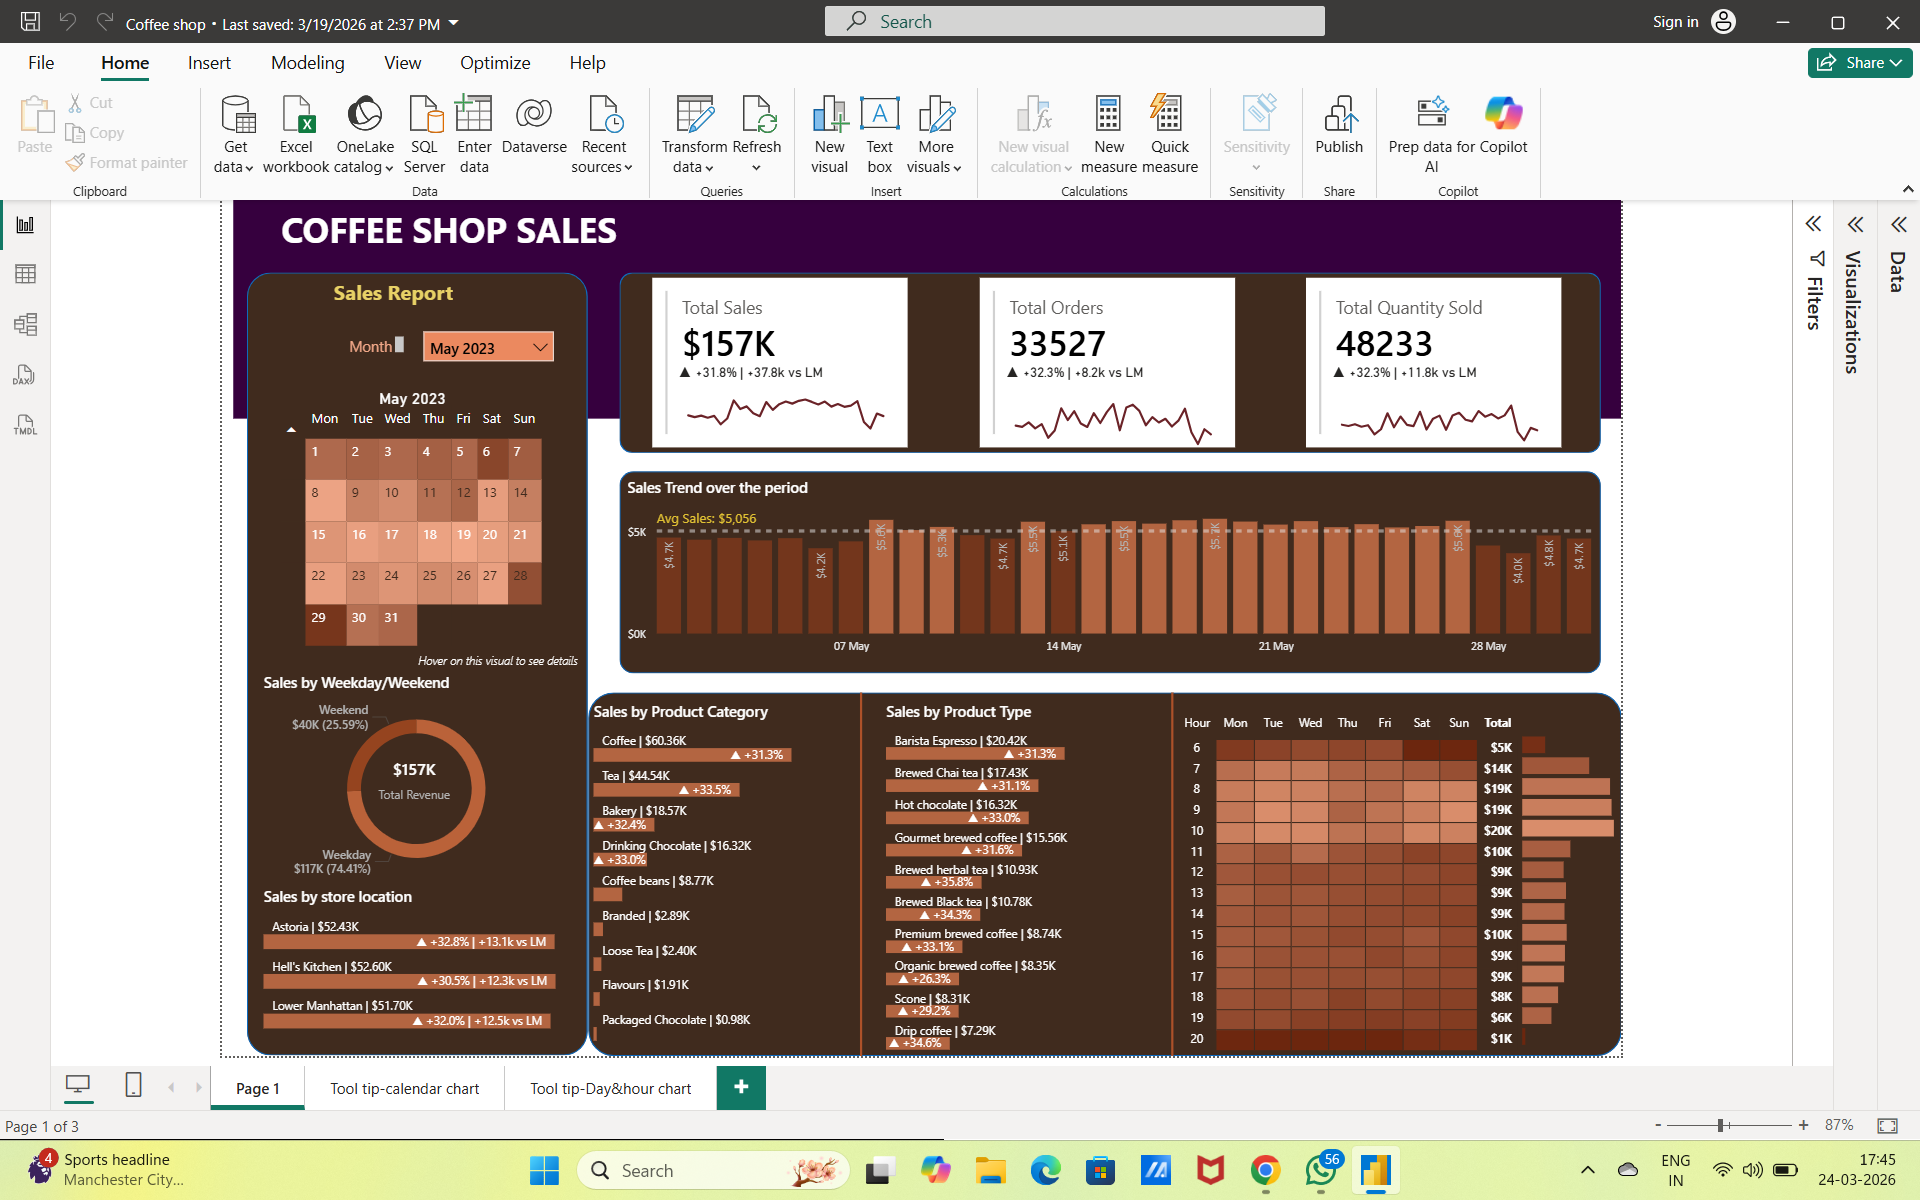

This screenshot's page, from the dashboard's own definition file:
{"tool":"powerbi","page":{"name":"Page 1","canvas":[1280,783],"ordinal":0},"visuals":[{"type":"shape","box":[10,0,1270,200],"z":0},{"type":"shape","box":[23.3,66.3,311.6,716.3],"z":1000},{"type":"shape","box":[364,66.3,897.7,165.1],"z":2000},{"type":"textbox","box":[48.8,0,331.4,57],"z":3000},{"type":"slicer","fields":{"Values":["Date Table.Month year"]},"box":[179.1,115.1,129.1,33.7],"z":4000},{"type":"group","id":"g1","title":"Group 1","box":[388.4,66.3,244.2,165.1],"z":5000},{"type":"cardVisual","fields":{"Data":["Transactions.Total Sales"]},"box":[388.4,66.3,243.5,165.3],"z":5000,"group":"g1"},{"type":"cardVisual","fields":{"Data":["Transactions.Total Orders"]},"box":[687.8,66.3,243.5,165.3],"z":5000,"group":"g2"},{"type":"cardVisual","fields":{"Data":["Transactions.Total Quantity Sold"]},"box":[987.2,66.3,243.5,165.3],"z":5000,"group":"g3"},{"type":"group","id":"g2","title":"Group 1","box":[687.8,66.3,244.2,165.1],"z":6000},{"type":"group","id":"g3","title":"Group 1","box":[987.2,66.3,244.2,165.1],"z":7000},{"type":"pivotTable","fields":{"Rows":["Date Table.Week Number"],"Columns":["Date Table.Day Name"],"Values":["Min(Date Table.Day number)"]},"box":[48.8,182.6,259.3,230.2],"z":8000},{"type":"card","fields":{"Values":["Min(Date Table.Month year)"]},"box":[97.7,166.3,154.7,33.7],"z":9000},{"type":"lineChart","fields":{"Y":["Transactions.Total Sales"],"Category":["Date Table.Date.Variation.Date Hierarchy.Year","Date Table.Date.Variation.Date Hierarchy.Quarter","Date Table.Date.Variation.Date Hierarchy.Month","Date Table.Date.Variation.Date Hierarchy.Day"]},"box":[411.1,149.3,208.6,80.4],"z":9001,"group":"g1"},{"type":"lineChart","fields":{"Category":["Date Table.Date.Variation.Date Hierarchy.Year","Date Table.Date.Variation.Date Hierarchy.Quarter","Date Table.Date.Variation.Date Hierarchy.Month","Date Table.Date.Variation.Date Hierarchy.Day"],"Y":["Transactions.Total Orders"]},"box":[710.5,149.3,208.6,80.4],"z":9001,"group":"g2"},{"type":"lineChart","fields":{"Category":["Date Table.Date.Variation.Date Hierarchy.Year","Date Table.Date.Variation.Date Hierarchy.Quarter","Date Table.Date.Variation.Date Hierarchy.Month","Date Table.Date.Variation.Date Hierarchy.Day"],"Y":["Transactions.Total Quantity Sold"]},"box":[1009.9,149.3,208.6,80.4],"z":9001,"group":"g3"},{"type":"card","fields":{"Values":["Transactions.Foot Note"]},"box":[116.3,407,272.1,33.7],"z":10000},{"type":"donutChart","title":"Sales by Weekday/Weekend","fields":{"Category":["Date Table.Weekday/Weekend"],"Y":["Transactions.Total Sales"]},"box":[33.7,432.6,289.5,195.3],"z":11000},{"type":"card","fields":{"Values":["Transactions.Total Sales"]},"box":[109.3,500,132.6,60.5],"z":12000},{"type":"clusteredBarChart","title":"Sales by store location","fields":{"Category":["Transactions.store_location"],"Y":["Transactions.Place Holder","Transactions.Total Sales"]},"box":[33.7,627.9,317.4,137.2],"z":13000},{"type":"shape","box":[364,247.7,897.7,185],"z":14000},{"type":"columnChart","title":"Sales Trend over the period","fields":{"Category":["Transactions.transaction_date"],"Y":["Transactions.Total Sales"]},"box":[366.3,253.5,897.7,170.9],"z":15000},{"type":"shape","box":[334.9,450,945.4,332.6],"z":16000},{"type":"clusteredBarChart","title":"Sales by Product Category","fields":{"Y":["Transactions.Place Holder","Transactions.Total Sales"],"Category":["Transactions.product_category"]},"box":[334.9,458.1,250,316.3],"z":17000},{"type":"shape","box":[567.4,450,34.9,332.6],"z":18000},{"type":"clusteredBarChart","title":"Sales by Product Type","fields":{"Y":["Transactions.Place Holder","Transactions.Total Sales"],"Category":["Transactions.product_type"]},"box":[602.3,458.1,250,324.4],"z":19000},{"type":"shape","box":[852.3,450,34.9,332.6],"z":19001},{"type":"pivotTable","fields":{"Rows":["Transactions.Hour"],"Columns":["Date Table.Day Name"],"Values":["Transactions.Total Sales"]},"box":[869.8,466.3,330.2,316.3],"z":19002},{"type":"barChart","fields":{"Category":["Transactions.Hour"],"Y":["Transactions.Total Sales"]},"box":[1184.9,477.9,95.3,300],"z":19003},{"type":"textbox","box":[97.7,66.3,130.2,48.8],"z":19004},{"type":"textbox","box":[109.1,120,62.7,24.5],"z":19005}]}

Visuals, with their boxes on the page's 1280x783 design canvas (x1, y1, x2, y2). These are canvas units, not pixel positions in the 1920x1200 screenshot, which may show the page scaled, cropped or inside an application window:
shape: <bbox>10, 0, 1280, 200</bbox>
shape: <bbox>23, 66, 335, 783</bbox>
shape: <bbox>364, 66, 1262, 231</bbox>
textbox: <bbox>49, 0, 380, 57</bbox>
slicer - Date Table.Month year: <bbox>179, 115, 308, 149</bbox>
"Group 1" group: <bbox>388, 66, 633, 231</bbox>
cardVisual - Transactions.Total Sales: <bbox>388, 66, 632, 232</bbox>
cardVisual - Transactions.Total Orders: <bbox>688, 66, 931, 232</bbox>
cardVisual - Transactions.Total Quantity Sold: <bbox>987, 66, 1231, 232</bbox>
"Group 1" group: <bbox>688, 66, 932, 231</bbox>
"Group 1" group: <bbox>987, 66, 1231, 231</bbox>
pivotTable - Date Table.Week Number x Date Table.Day Name: <bbox>49, 183, 308, 413</bbox>
card - Min(Date Table.Month year): <bbox>98, 166, 252, 200</bbox>
lineChart - Transactions.Total Sales x Date Table.Date.Variation.Date Hierarchy.Year: <bbox>411, 149, 620, 230</bbox>
lineChart - Date Table.Date.Variation.Date Hierarchy.Year x Date Table.Date.Variation.Date Hierarchy.Quarter: <bbox>710, 149, 919, 230</bbox>
lineChart - Date Table.Date.Variation.Date Hierarchy.Year x Date Table.Date.Variation.Date Hierarchy.Quarter: <bbox>1010, 149, 1218, 230</bbox>
card - Transactions.Foot Note: <bbox>116, 407, 388, 441</bbox>
"Sales by Weekday/Weekend" donutChart: <bbox>34, 433, 323, 628</bbox>
card - Transactions.Total Sales: <bbox>109, 500, 242, 560</bbox>
"Sales by store location" clusteredBarChart: <bbox>34, 628, 351, 765</bbox>
shape: <bbox>364, 248, 1262, 433</bbox>
"Sales Trend over the period" columnChart: <bbox>366, 254, 1264, 424</bbox>
shape: <bbox>335, 450, 1280, 783</bbox>
"Sales by Product Category" clusteredBarChart: <bbox>335, 458, 585, 774</bbox>
shape: <bbox>567, 450, 602, 783</bbox>
"Sales by Product Type" clusteredBarChart: <bbox>602, 458, 852, 782</bbox>
shape: <bbox>852, 450, 887, 783</bbox>
pivotTable - Transactions.Hour x Date Table.Day Name: <bbox>870, 466, 1200, 783</bbox>
barChart - Transactions.Hour x Transactions.Total Sales: <bbox>1185, 478, 1280, 778</bbox>
textbox: <bbox>98, 66, 228, 115</bbox>
textbox: <bbox>109, 120, 172, 144</bbox>
